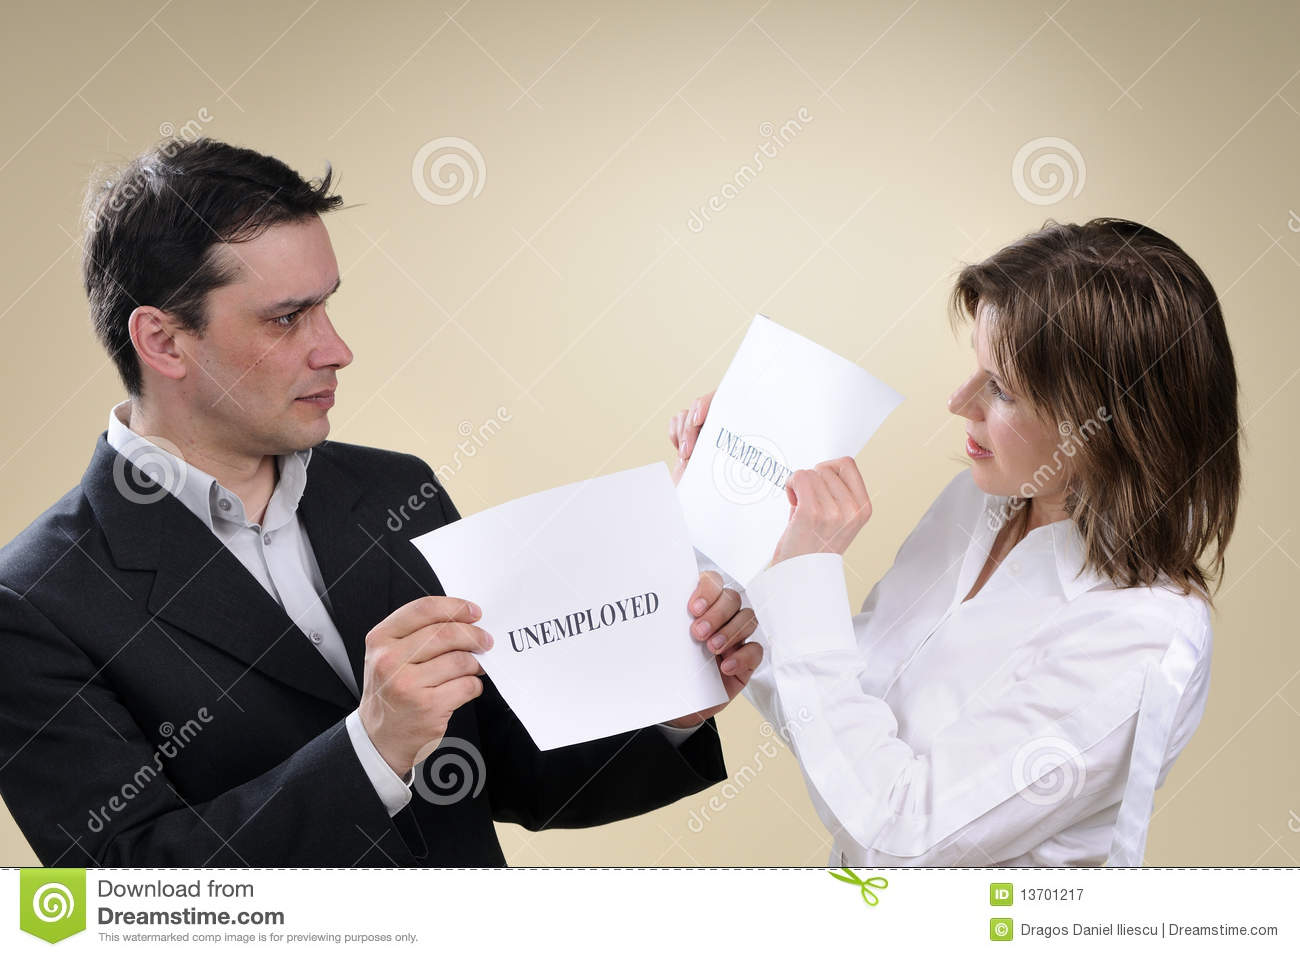person: (38, 115, 447, 656), (844, 202, 1225, 730)
